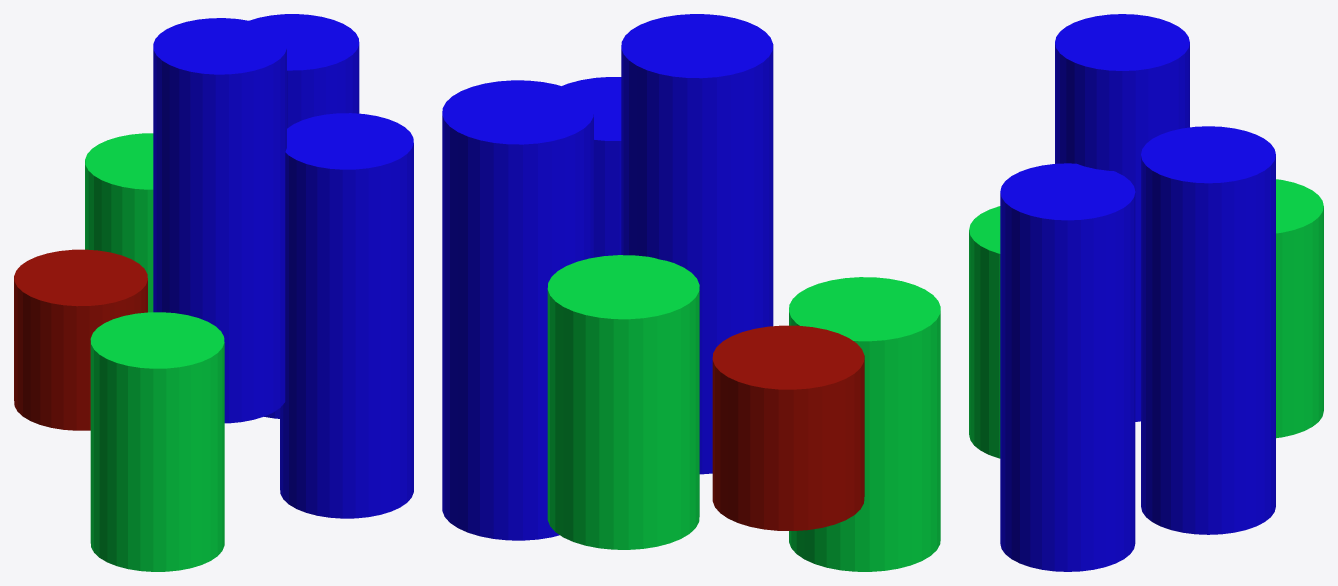
File: Fichas.fbx
3 views of the same model, side by side, from view 1: azimuth 30°, elevation 25°; view 2: azimuth 150°, elevation 25°; view 3: azimuth 270°, elevation 25° (orthographic). The views are drawn at different scales.
Visible parts, largest first — view 1: Cylinder.002; view 2: Cylinder.002; view 3: Cylinder.002.
Boxes of the visible parts, x1=… form: Cylinder.002: x1=14, y1=14, x2=413, y2=571; Cylinder.002: x1=442, y1=14, x2=940, y2=571; Cylinder.002: x1=969, y1=14, x2=1323, y2=571.
Bounding box in the file's own units: 205 × 257 × 183.
